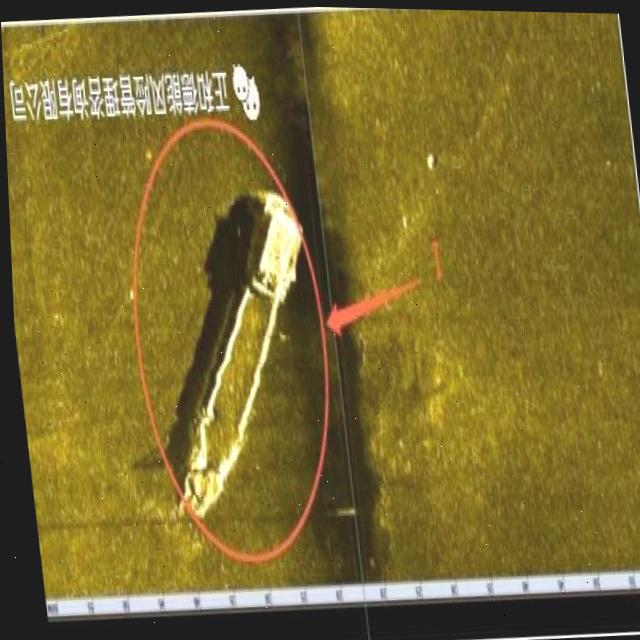shipwreck: (143, 169, 337, 535)
